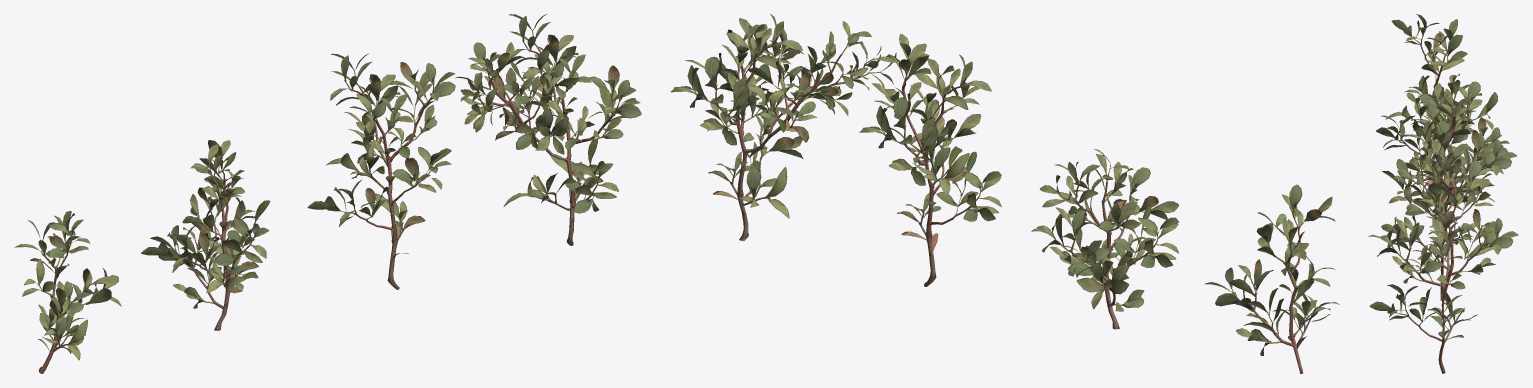
Rendered from shrub_04.gltf.
3 renders of one model, left to right at view 1: azimuth 30°, elevation 25°; view 2: azimuth 150°, elevation 25°; view 3: azimuth 270°, elevation 25°, orthographic. The views are drawn at different scales.
Parts seen in each view (by area): view 1: shrub_04; view 2: shrub_04; view 3: shrub_04.
Part boxes in pixels (box(x1,y1,x2,y2)): shrub_04: box(14, 14, 641, 373); shrub_04: box(671, 14, 1339, 373); shrub_04: box(1368, 14, 1518, 373).
Size of the model in its own units: 0.5837 by 0.2192 by 0.1461.
Materials: 1 (1 with a texture image).
